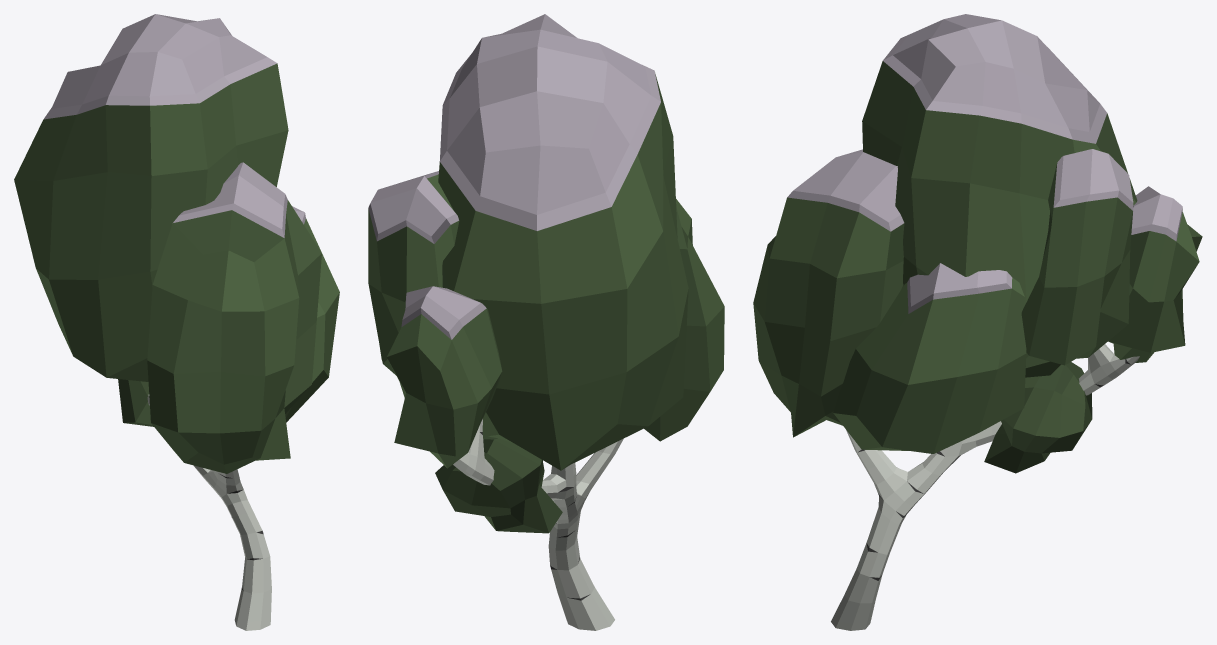
The model's file is birch_snow1.glb.
3 views of the same model, side by side, from view 1: azimuth 30°, elevation 25°; view 2: azimuth 150°, elevation 25°; view 3: azimuth 270°, elevation 25° (orthographic). The views are drawn at different scales.
Parts seen in each view (by area): view 1: BirchTree_Snow_1; view 2: BirchTree_Snow_1; view 3: BirchTree_Snow_1.
Part boxes in pixels (x1,y1,x2,y2): BirchTree_Snow_1: (14,14,339,630); BirchTree_Snow_1: (368,14,724,630); BirchTree_Snow_1: (753,14,1202,630).
Bounding box in the file's own units: 1.7 × 3.59 × 2.48.
